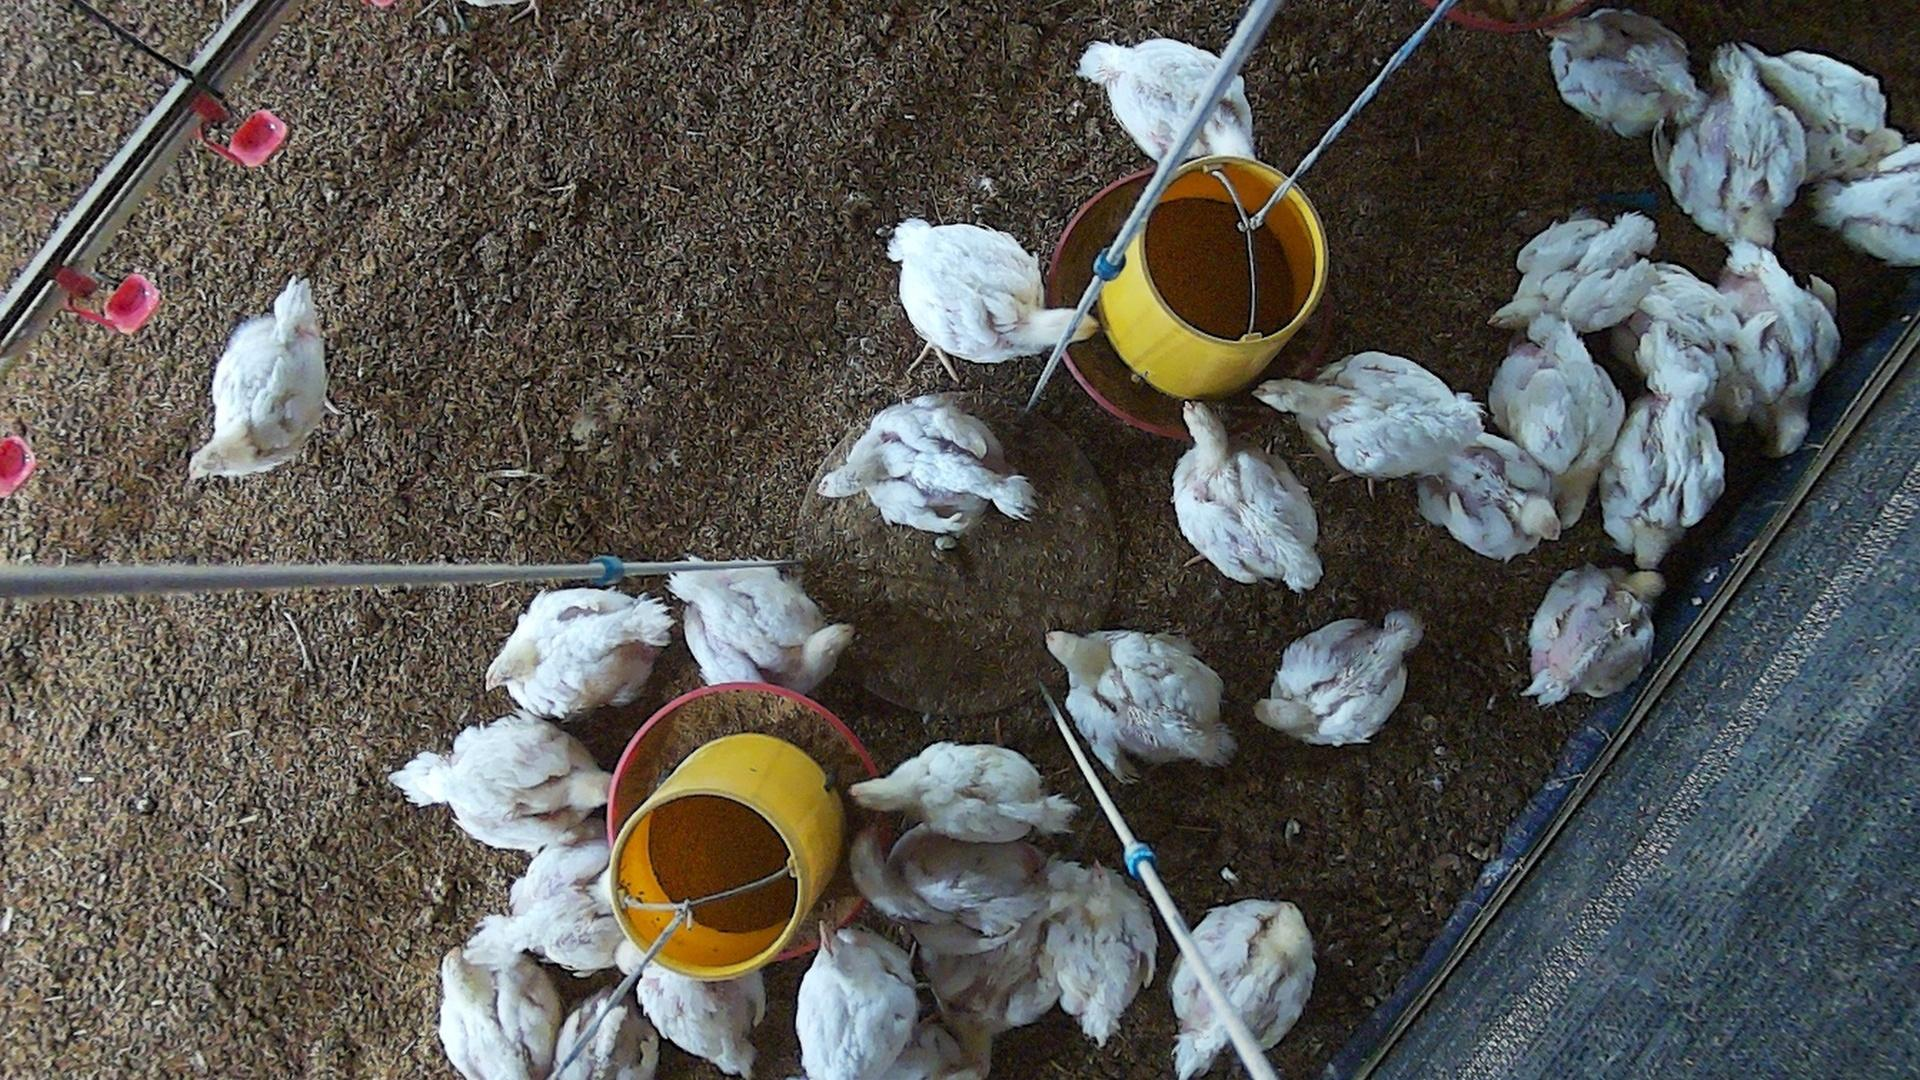ayam_broiler: (887, 219, 1097, 381), (190, 280, 342, 480), (1660, 50, 1807, 252), (1261, 352, 1491, 480), (392, 719, 612, 852), (820, 394, 1026, 537), (851, 828, 1081, 953), (1170, 401, 1320, 589), (1046, 626, 1233, 774), (1490, 320, 1625, 518), (1168, 901, 1316, 1080), (1721, 241, 1840, 454), (488, 587, 675, 720), (1077, 38, 1255, 171), (670, 562, 852, 690), (1602, 385, 1725, 570), (851, 742, 1072, 843), (1255, 613, 1423, 745), (1044, 860, 1156, 1047), (1493, 211, 1659, 335), (467, 844, 622, 976), (1549, 8, 1702, 137), (1524, 566, 1660, 704), (795, 930, 916, 1080), (1749, 51, 1903, 169), (1416, 440, 1557, 560), (439, 945, 558, 1080), (1635, 264, 1742, 413), (633, 959, 766, 1077), (1813, 142, 1920, 268), (558, 986, 659, 1079)
